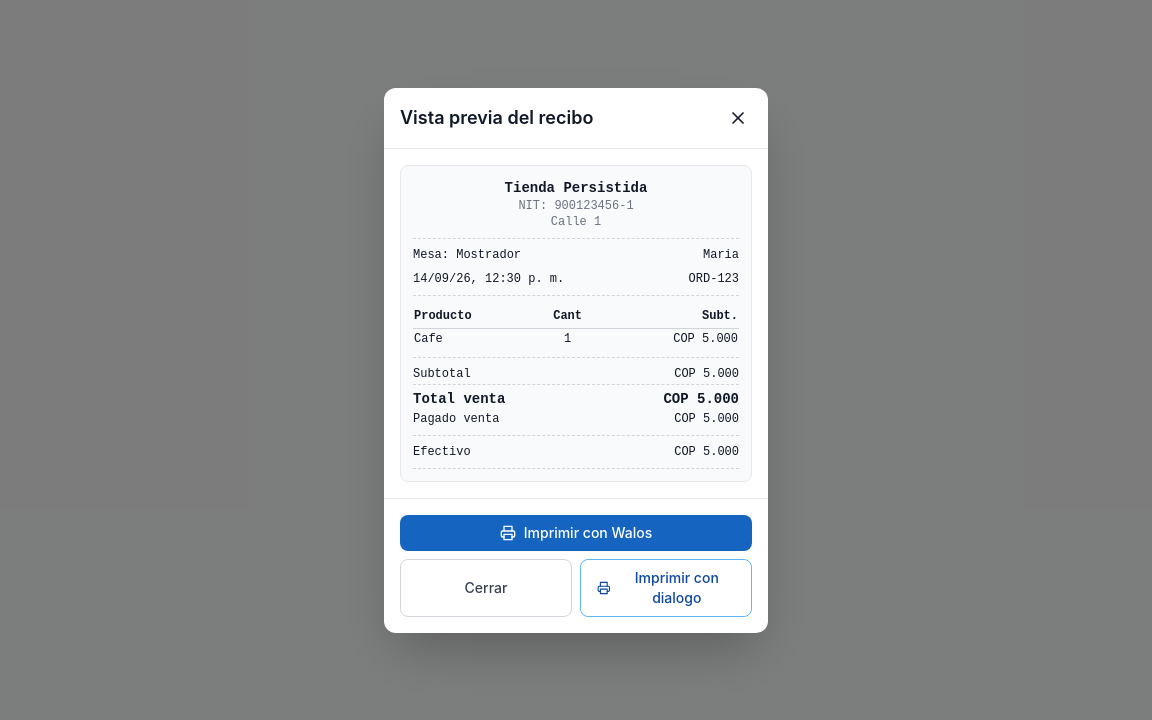
Test case: ReceiptPreview impresion H2 › un error del agente no altera el recibo ni dispara checkout, fallback o cajon
Expected: the text "Tienda Persistida" is shown, [505,180,647,196]
Click the button "Imprimir con Walos" at (576, 532), box [400,514,752,550]
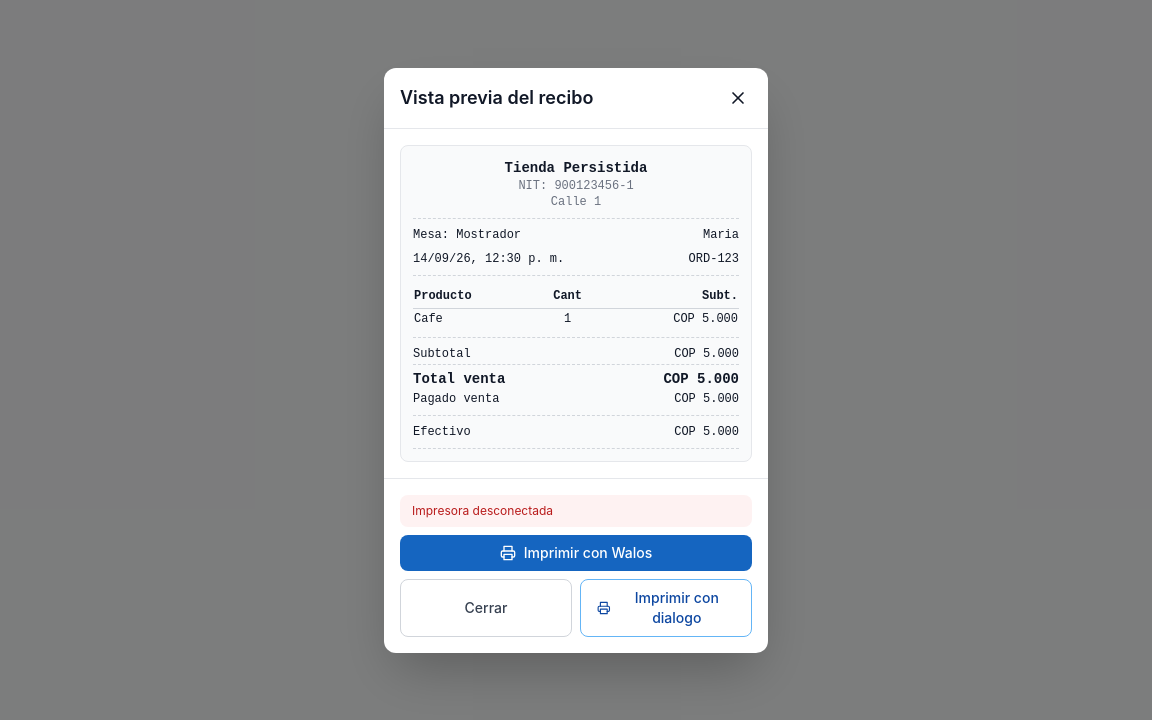
Now the text "Impresora desconectada" is shown, box [400,494,752,526]
